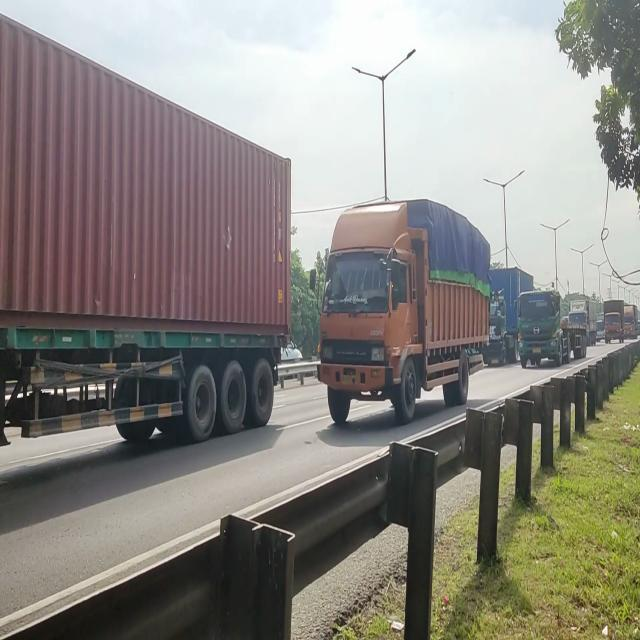Golongan II: (318, 206, 491, 423)
